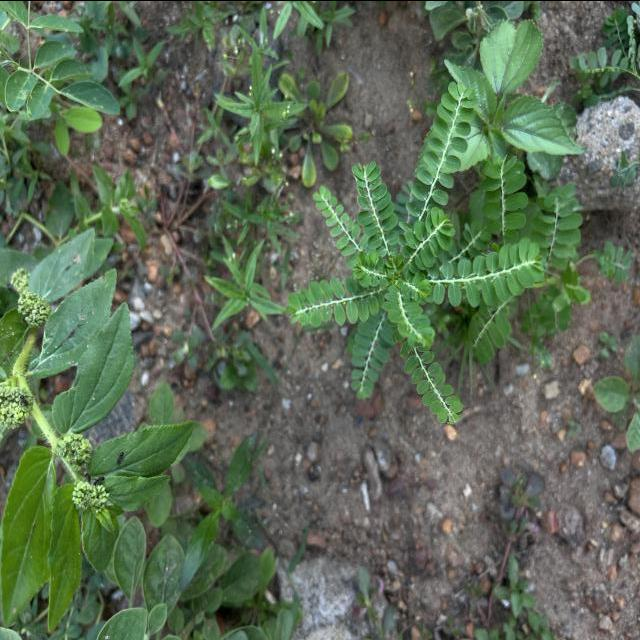Phyllanthus niruri: (410, 77, 480, 206), (434, 234, 548, 308), (284, 270, 384, 328), (400, 336, 464, 426), (350, 157, 401, 250), (310, 181, 364, 258), (404, 204, 456, 270)
